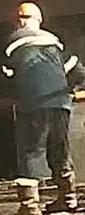helmet: (16, 2, 43, 22)
vest: (7, 30, 72, 114)
